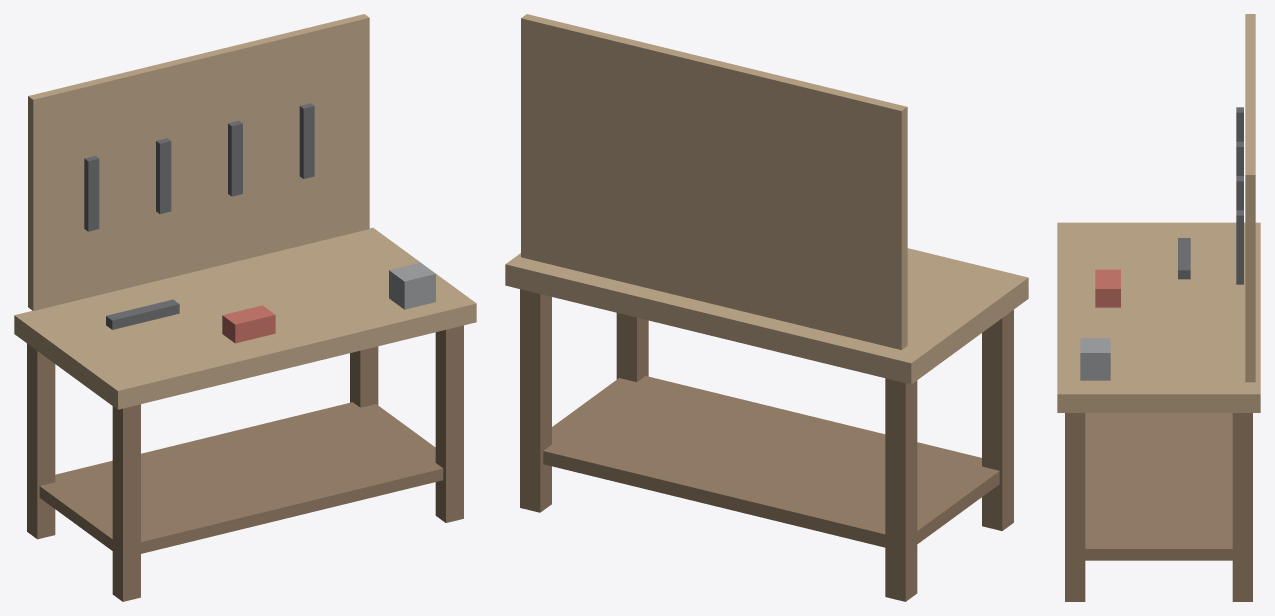
The model's file is deploy_workbench.glb.
3 views of the same model, side by side, from view 1: azimuth 30°, elevation 25°; view 2: azimuth 150°, elevation 25°; view 3: azimuth 270°, elevation 25° (orthographic). The views are drawn at different scales.
Parts seen in each view (by area): view 1: deploy_workbench; view 2: deploy_workbench; view 3: deploy_workbench.
Boxes of the visible parts, x1,y1,x2,y2 form: deploy_workbench: (14,14,476,601); deploy_workbench: (505,14,1028,601); deploy_workbench: (1057,14,1260,601).
Bounding box in the file's own units: 1.6 × 1.85 × 0.8.
